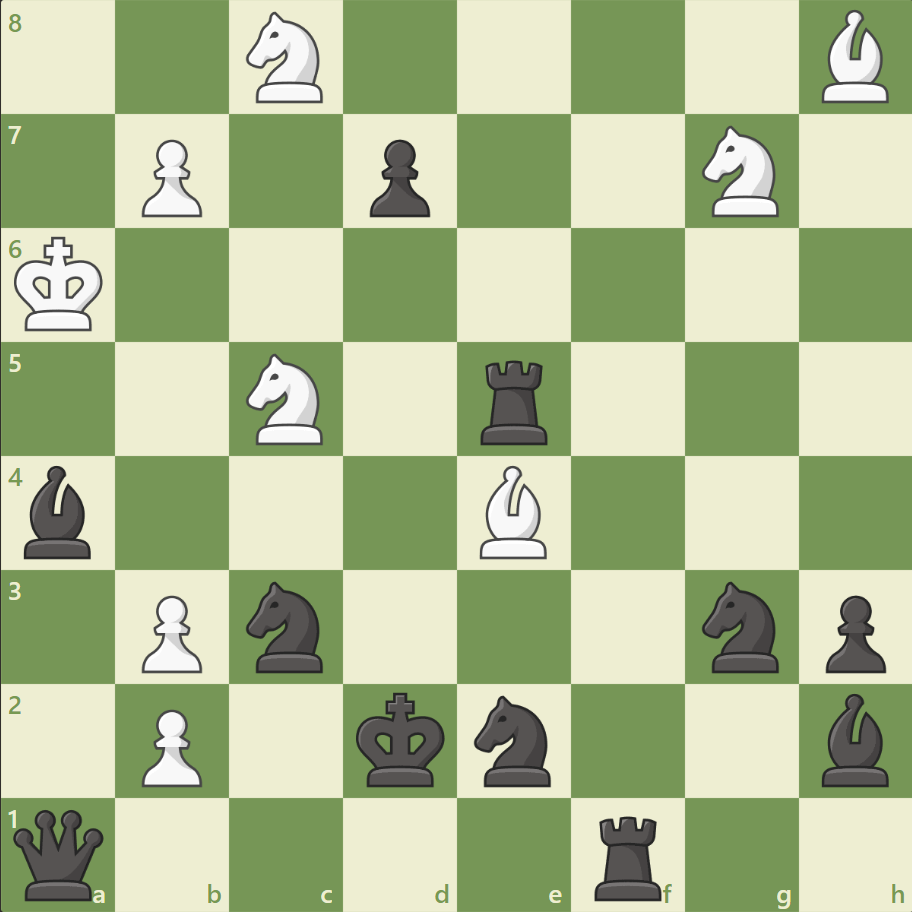B: (812, 6, 896, 109), (471, 460, 555, 563)
K: (11, 231, 111, 339)
N: (238, 7, 335, 110), (692, 121, 789, 223), (238, 348, 335, 450)
P: (133, 132, 208, 223), (133, 586, 208, 677), (133, 700, 208, 791)
b: (17, 460, 101, 563), (812, 687, 896, 790)
k: (351, 685, 451, 793)
n: (465, 688, 562, 791), (238, 575, 335, 677), (692, 575, 789, 677)
p: (361, 132, 435, 223), (815, 586, 889, 677)
q: (10, 804, 109, 903)
r: (587, 806, 670, 904), (473, 352, 556, 449)
